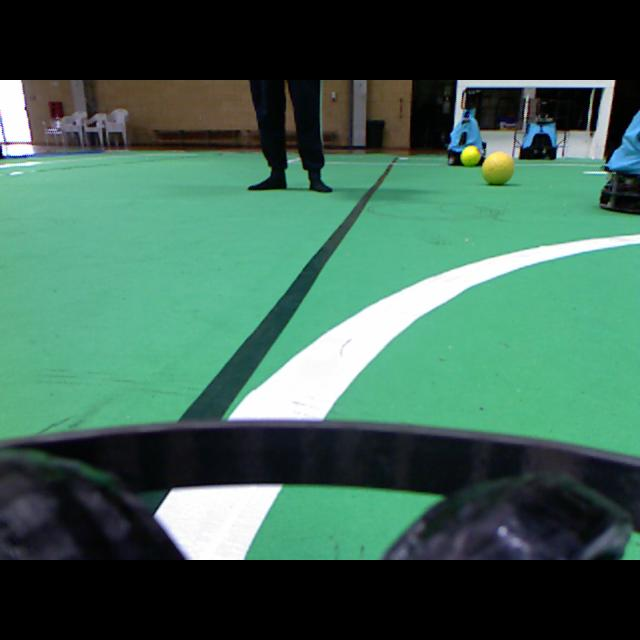ball: (482, 152, 514, 184), (460, 146, 480, 165)
goal: (593, 80, 616, 158), (455, 80, 467, 124)
